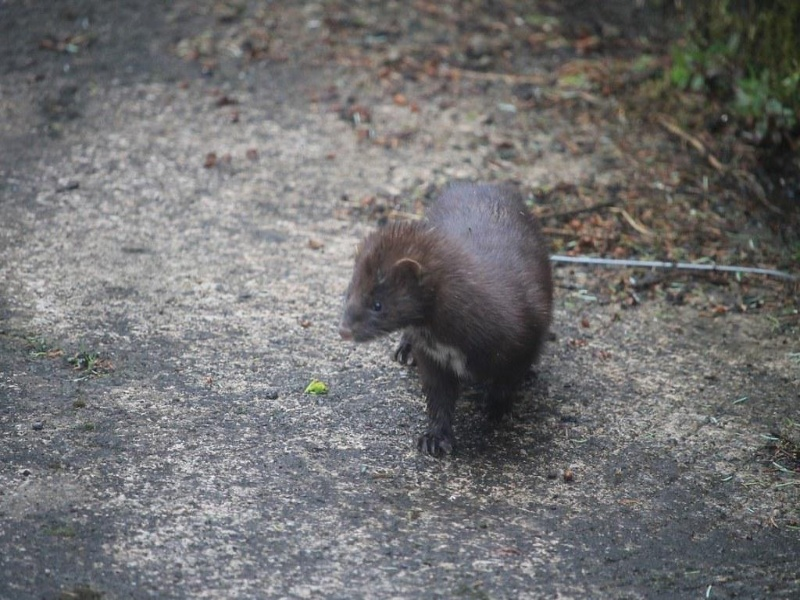minkish: (340, 177, 557, 458)
